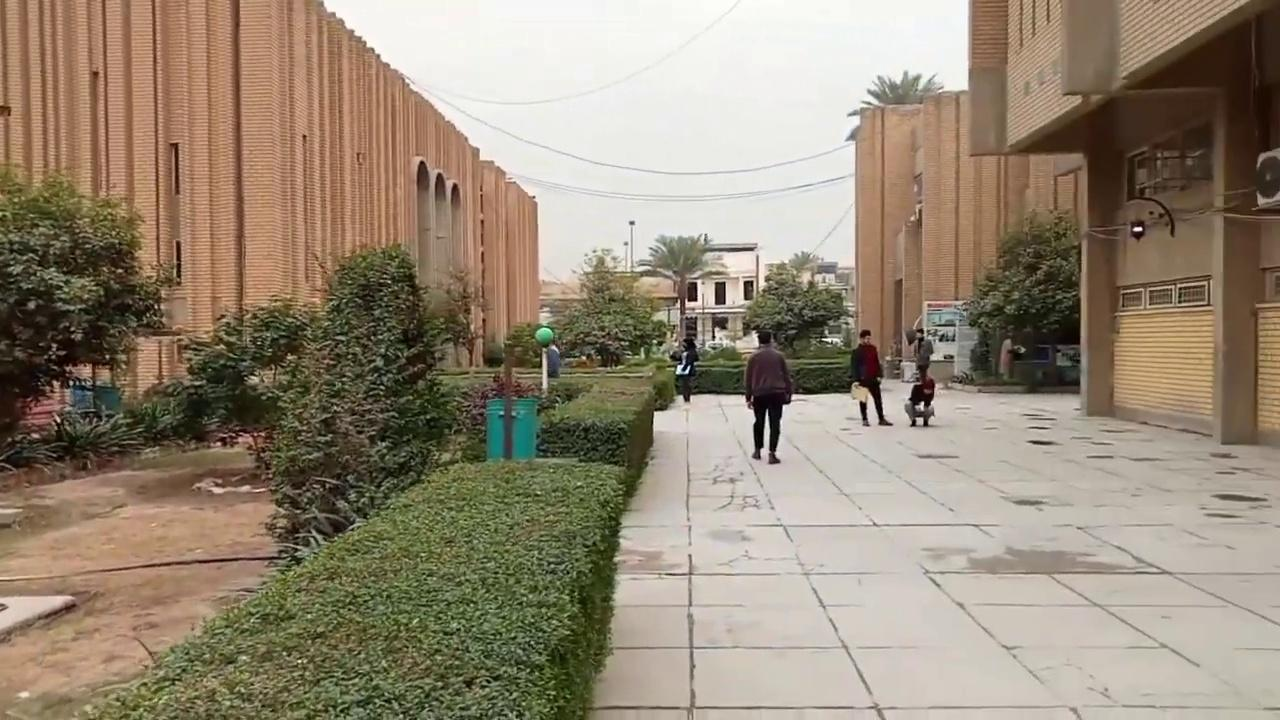person: (744, 330, 793, 464), (849, 329, 893, 426), (904, 365, 935, 426), (672, 336, 699, 402), (906, 327, 934, 380), (545, 339, 561, 377)
tree: (261, 240, 458, 563), (0, 164, 179, 461), (961, 204, 1081, 384), (179, 294, 317, 439), (545, 247, 668, 367), (741, 258, 854, 355), (635, 232, 728, 346), (434, 259, 489, 368), (847, 69, 943, 118), (502, 320, 542, 368), (582, 246, 622, 272)
